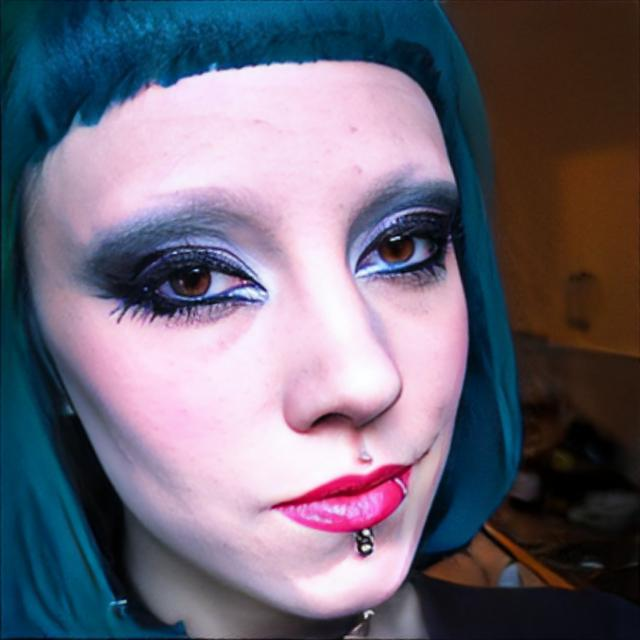content: (75, 83, 472, 614)
